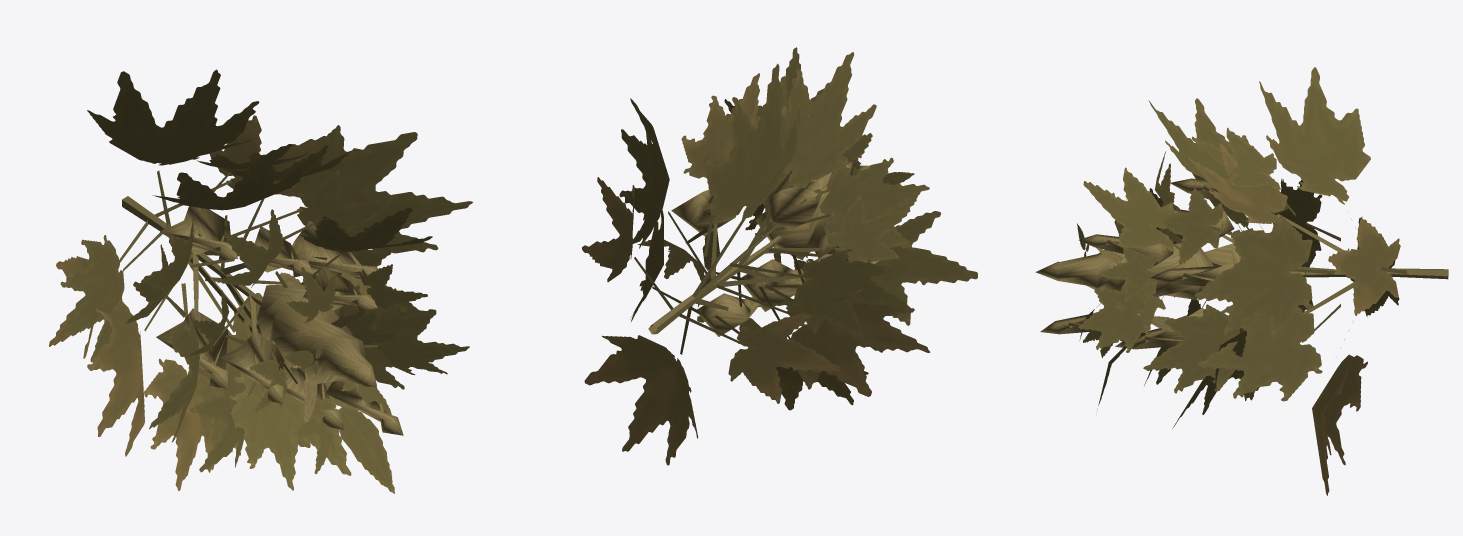
The model's file is p_kush_ripe_c2_cards.obj.
3 views of the same model, side by side, from view 1: azimuth 30°, elevation 25°; view 2: azimuth 150°, elevation 25°; view 3: azimuth 270°, elevation 25° (orthographic). The views are drawn at different scales.
Size of the model in its own units: 1.37 by 1.6 by 1.34.
Materials: 1 (1 with a texture image).
